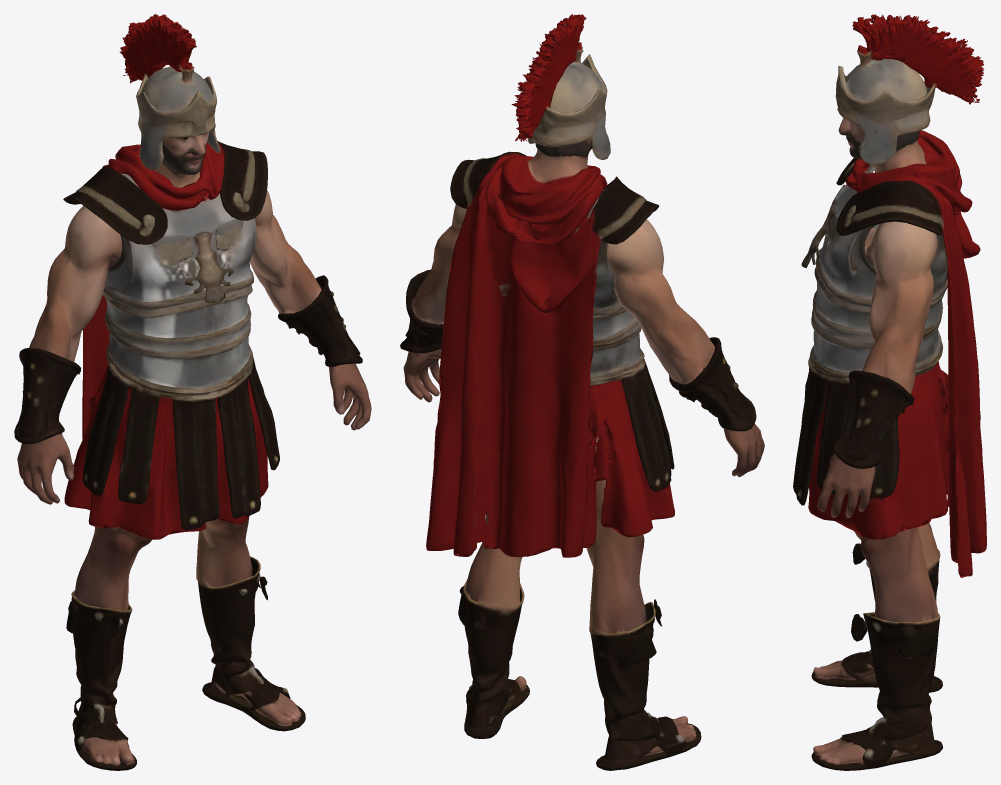
Rendered from legionary-trellis-backup.glb.
The picture shows the model from 3 angles, left to right: view 1: azimuth 30°, elevation 25°; view 2: azimuth 150°, elevation 25°; view 3: azimuth 270°, elevation 25°; orthographic projection. The views are drawn at different scales.
Visible parts, largest first — view 1: world; view 2: world; view 3: world.
Part boxes in pixels (x1=…): world: x1=14, y1=14, x2=371, y2=770; world: x1=400, y1=14, x2=764, y2=770; world: x1=793, y1=14, x2=986, y2=770.
Size of the model in its own units: 0.5066 by 0.9971 by 0.2481.
Materials: 1 (1 with a texture image).
